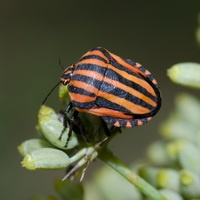insect: (60, 47, 160, 146)
